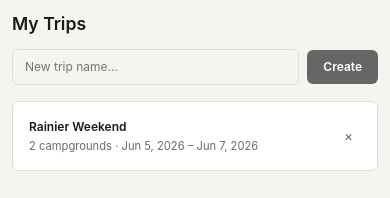
Scenario: TripsPage destructive delete › confirming deletes and removes the row
Expected: the text "Rainier Weekend" is shown, [29,119,126,134]
Step 1. Click the button named "Delete Rainier Weekend" → (348, 136), box [336,114,361,158]
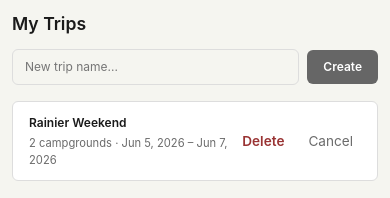
Step 2. Click the button with aria-label "Confirm delete Rainier Weekend" → (263, 141), box [234,119,292,163]
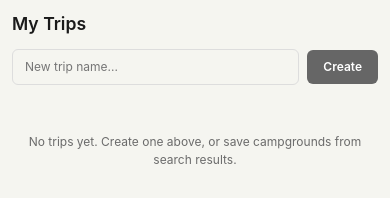
Expected: the link "Rainier Weekend" is gone
